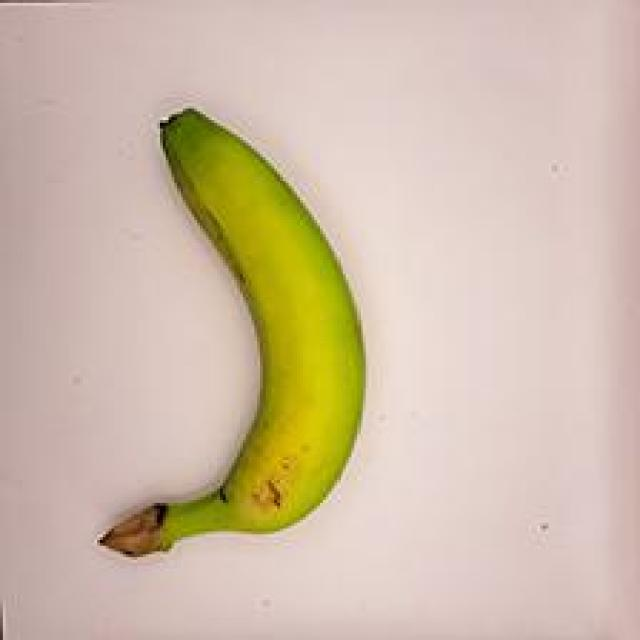Unripe: (65, 89, 381, 582)
